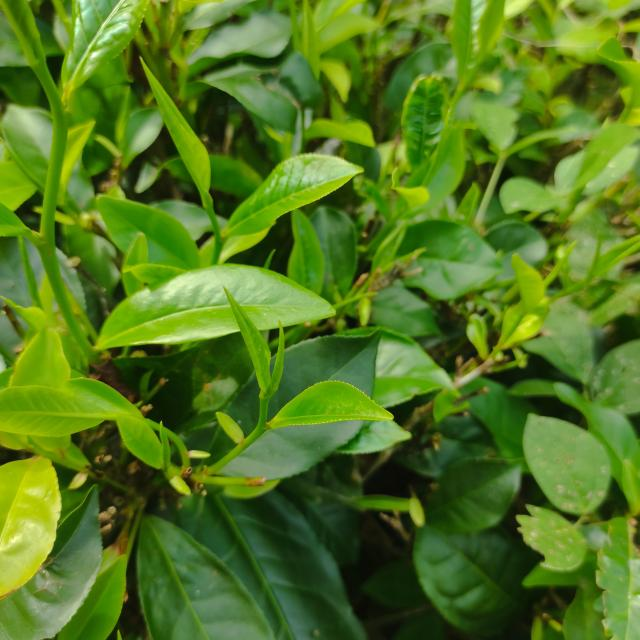unopened_leaf: (355, 241, 434, 297), (260, 314, 290, 410), (539, 234, 582, 288), (154, 414, 176, 481)
